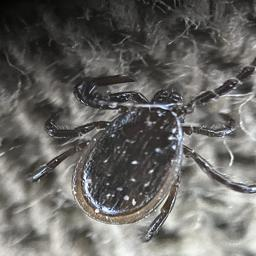Ixodes scapularis: (30, 58, 256, 243)
